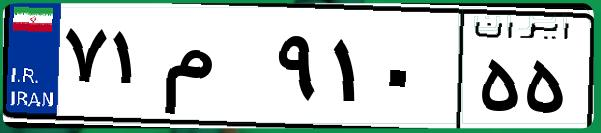0: (385, 28, 445, 110)
1: (330, 28, 385, 110), (110, 28, 158, 98)
5: (475, 38, 525, 113), (525, 38, 570, 115)
7: (57, 26, 110, 100)
9: (270, 28, 330, 110)
م: (158, 20, 270, 120)
